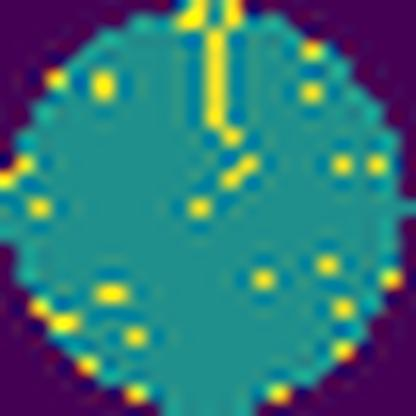Scratch: (172, 0, 254, 154)
